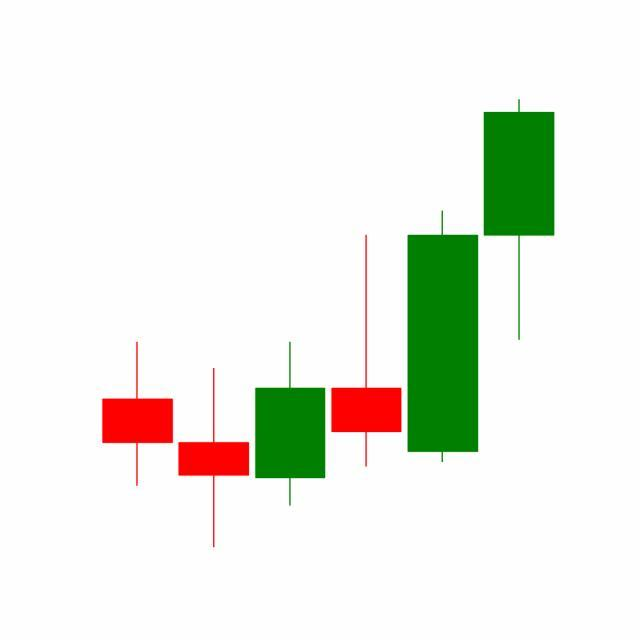Three Outside Up-Down: (326, 100, 555, 472)
